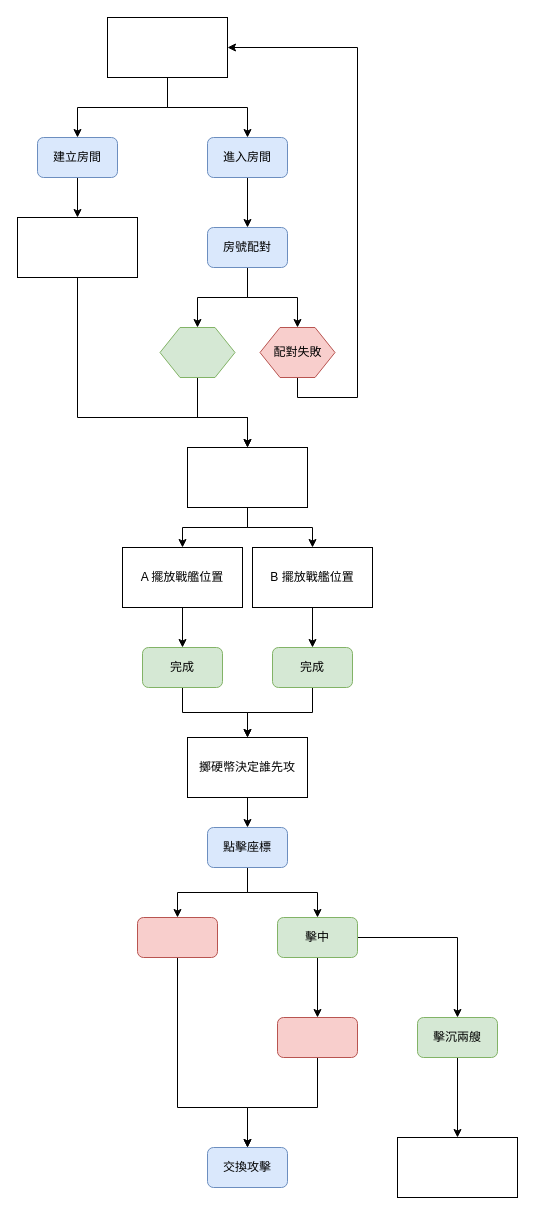
The diagram is 535 pixels wide and 1215 high, and some of its shapes have lost their labels. The shapes that lost their labels are listed below. From the top down, each one's centre as x and y in pixels, then its label:
At point 167,47: "初始畫面".
At point 77,247: "等待畫面".
At point 197,352: "配對成功".
At point 247,477: "對戰畫面".
At point 177,937: "未擊中".
At point 317,1037: "未擊沉兩艘".
At point 457,1167: "遊戲結束".
